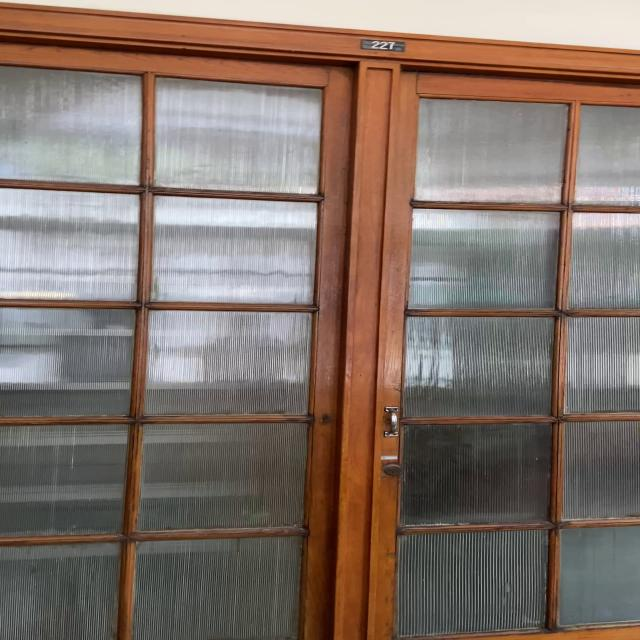room227: (358, 38, 406, 53)
